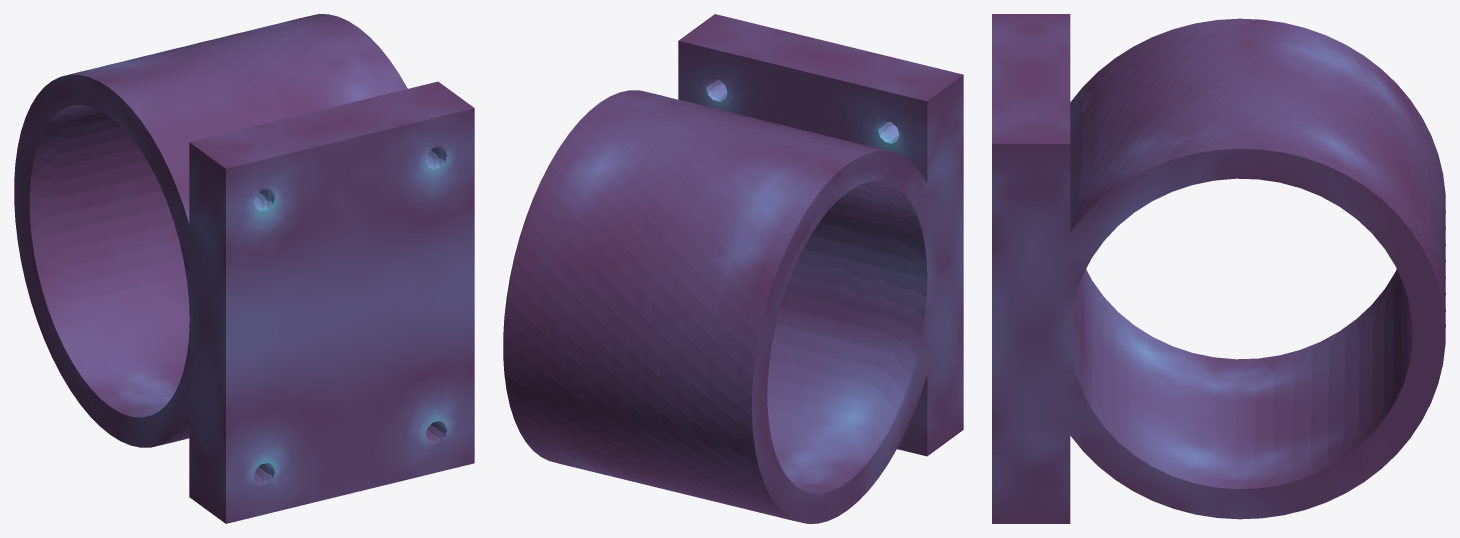
The model's file is CAD_BC-W.glb.
The picture shows the model from 3 angles, left to right: view 1: azimuth 30°, elevation 25°; view 2: azimuth 150°, elevation 25°; view 3: azimuth 270°, elevation 25°; orthographic projection. The views are drawn at different scales.
Visible parts, largest first — view 1: geometry_0; view 2: geometry_0; view 3: geometry_0.
Part boxes in pixels (<box>): geometry_0: <box>14,14,474,523</box>; geometry_0: <box>503,14,963,523</box>; geometry_0: <box>992,14,1445,523</box>.
Bounding box in the file's own units: 0.11 × 0.15 × 0.1623.
